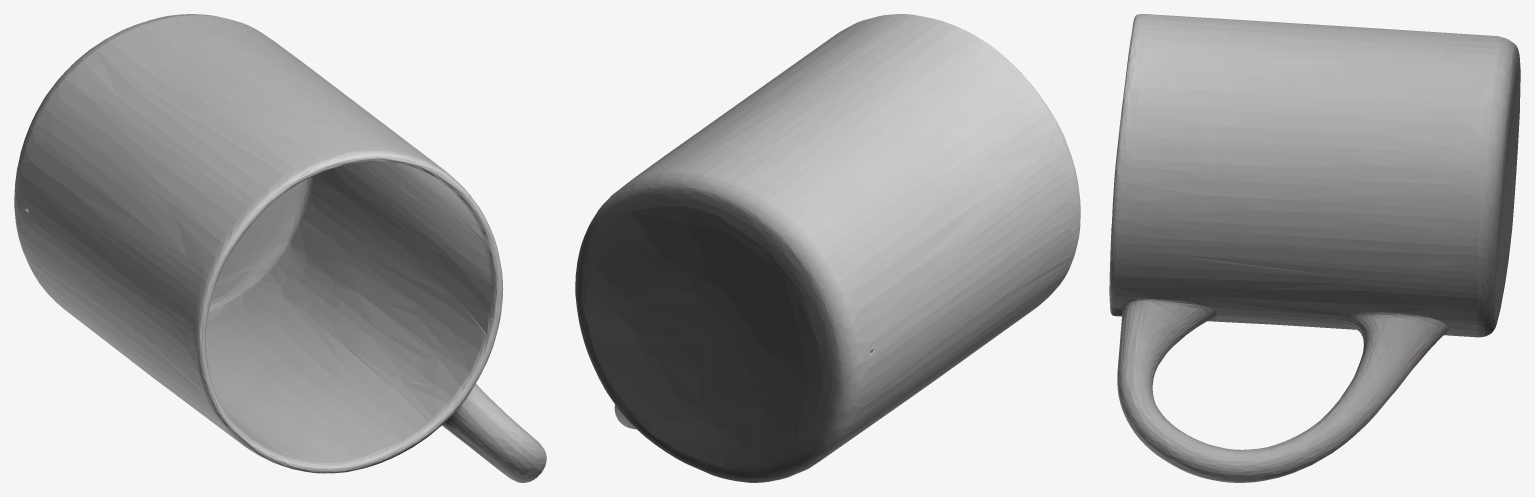
The picture shows the model from 3 angles, left to right: view 1: azimuth 30°, elevation 25°; view 2: azimuth 150°, elevation 25°; view 3: azimuth 270°, elevation 25°; orthographic projection. The views are drawn at different scales.
Visible parts, largest first — view 1: geometry_0; view 2: geometry_0; view 3: geometry_0.
Part boxes in pixels (bbox=[...]): geometry_0: bbox=[14, 14, 546, 482]; geometry_0: bbox=[575, 14, 1080, 482]; geometry_0: bbox=[1109, 14, 1520, 482].
Size of the model in its own units: 0.0891 by 0.0902 by 0.0933.
1 material, 1 textured.
